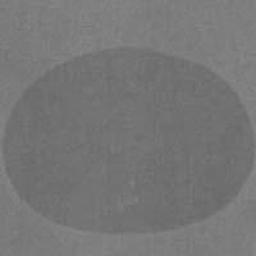Oil spot: (0, 46, 256, 237)
